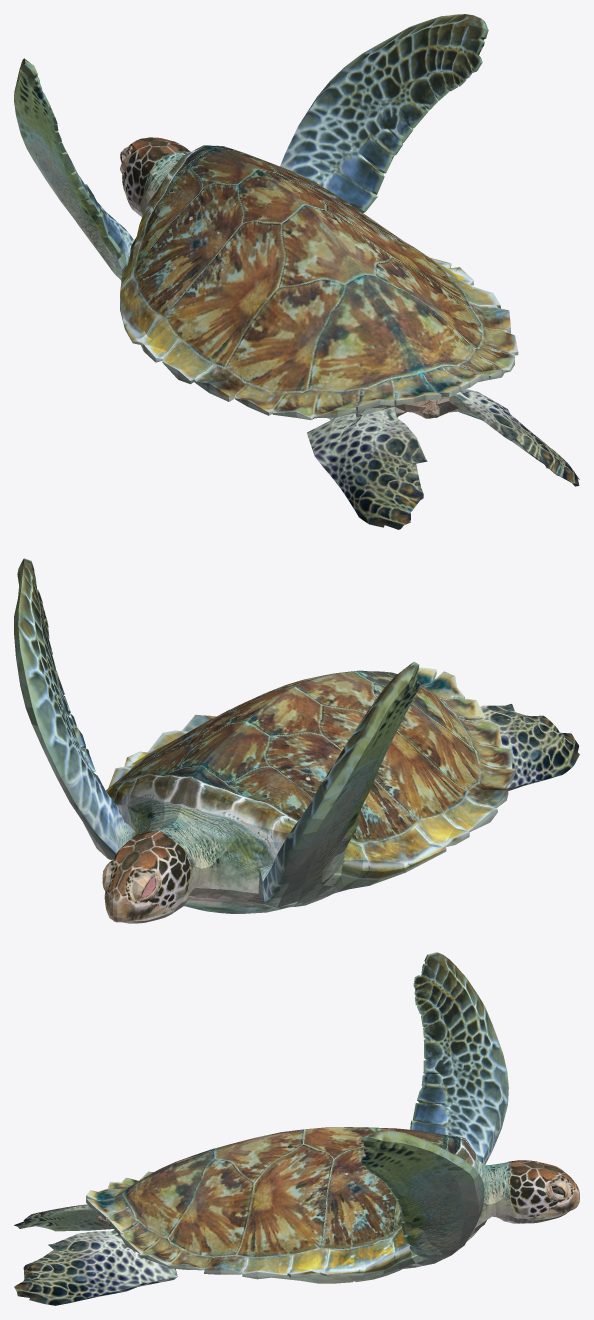
Rendered from frame_39.obj.
3 renders of one model, top to bottom at view 1: azimuth 30°, elevation 25°; view 2: azimuth 150°, elevation 25°; view 3: azimuth 270°, elevation 25°, orthographic. The views are drawn at different scales.
Visible parts, largest first — view 1: Turtle GEO Turtle; view 2: Turtle GEO Turtle; view 3: Turtle GEO Turtle.
Boxes of the visible parts, box(x1,y1,x2,y2) form: Turtle GEO Turtle: box(14, 14, 579, 529); Turtle GEO Turtle: box(14, 558, 579, 923); Turtle GEO Turtle: box(14, 952, 579, 1305).
Bounding box in the file's own units: 67.38 × 47.27 × 100.
1 material, 1 textured.
